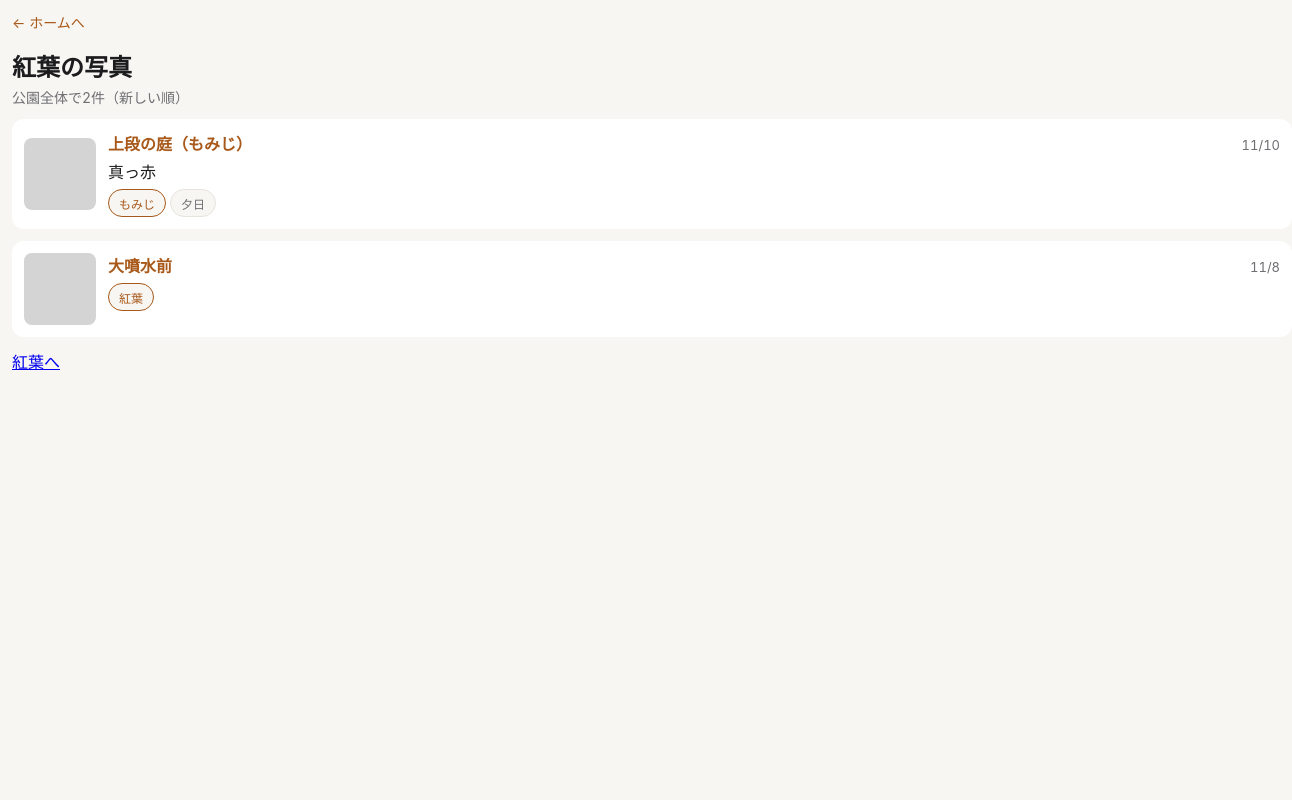
Scenario: TagPostsPage › links back to home when opened directly, and goes back when reached from inside the app
Click the link "紅葉へ" at (36, 362), box [12, 352, 60, 372]
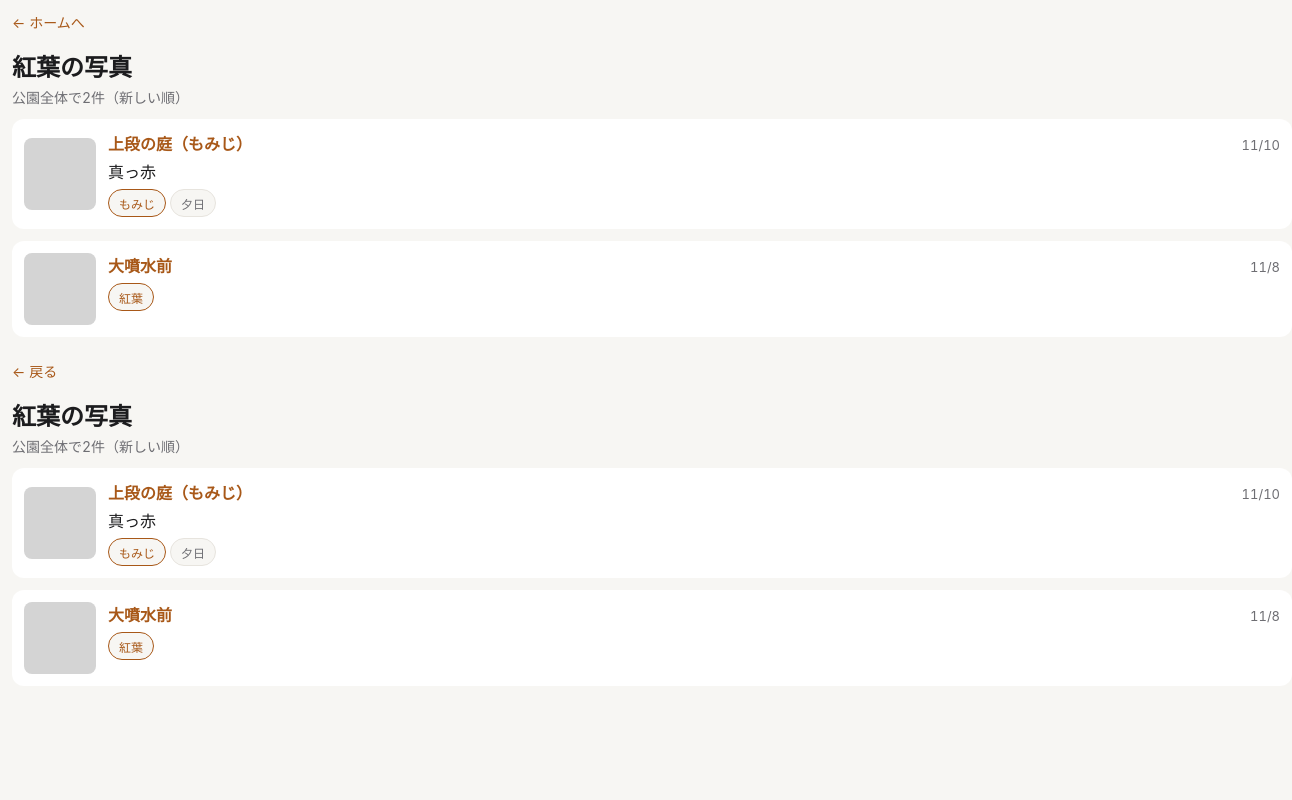
Click the button "← 戻る" at (35, 371), box [12, 349, 57, 393]
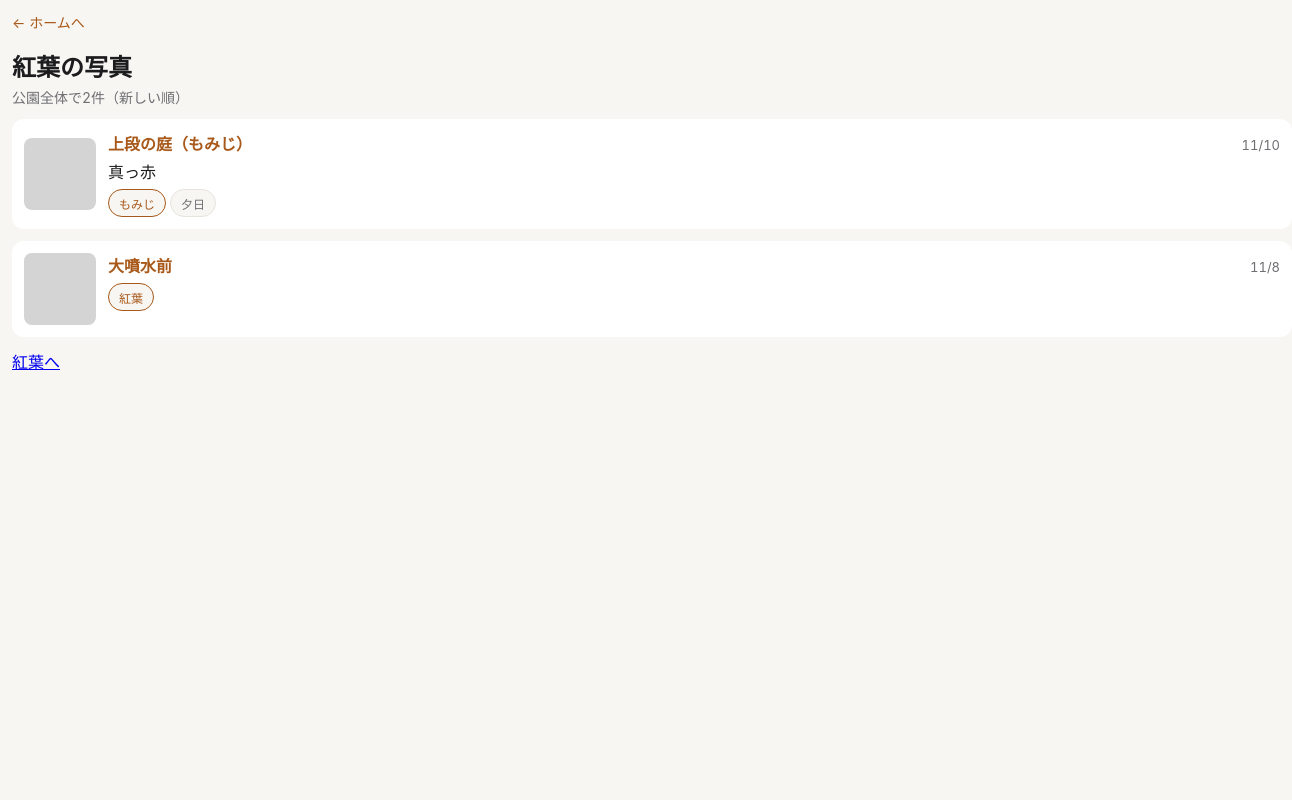
Now the link "紅葉へ" is shown, box [12, 352, 60, 372]
